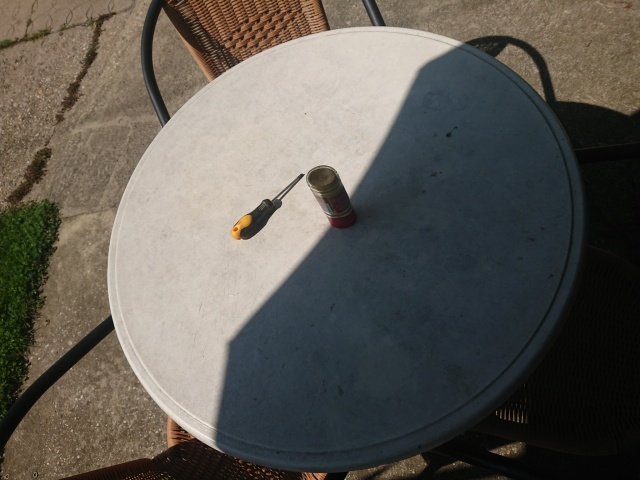Kotanyi Curry Spices Mix 70g: (305, 163, 359, 230)
